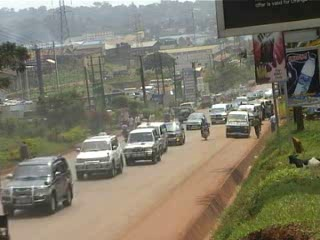Car: (1, 149, 75, 216), (73, 131, 124, 181), (121, 126, 163, 165), (162, 119, 188, 152), (183, 108, 205, 130)
Motorcycle: (197, 115, 213, 141), (120, 121, 132, 142)
